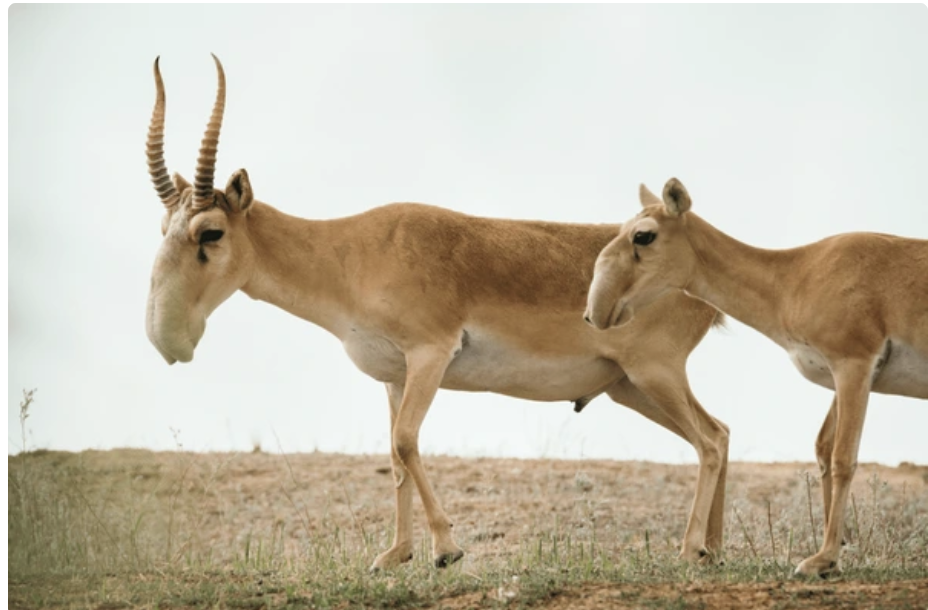saiga: (143, 49, 737, 586)
